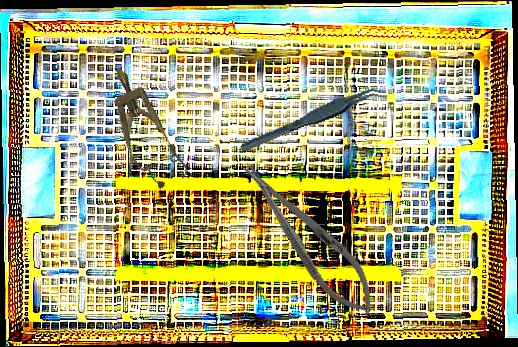Needle Holder: (231, 151, 388, 327)
Speculum: (95, 58, 193, 195)
Tissue Forceps: (235, 84, 390, 154)
